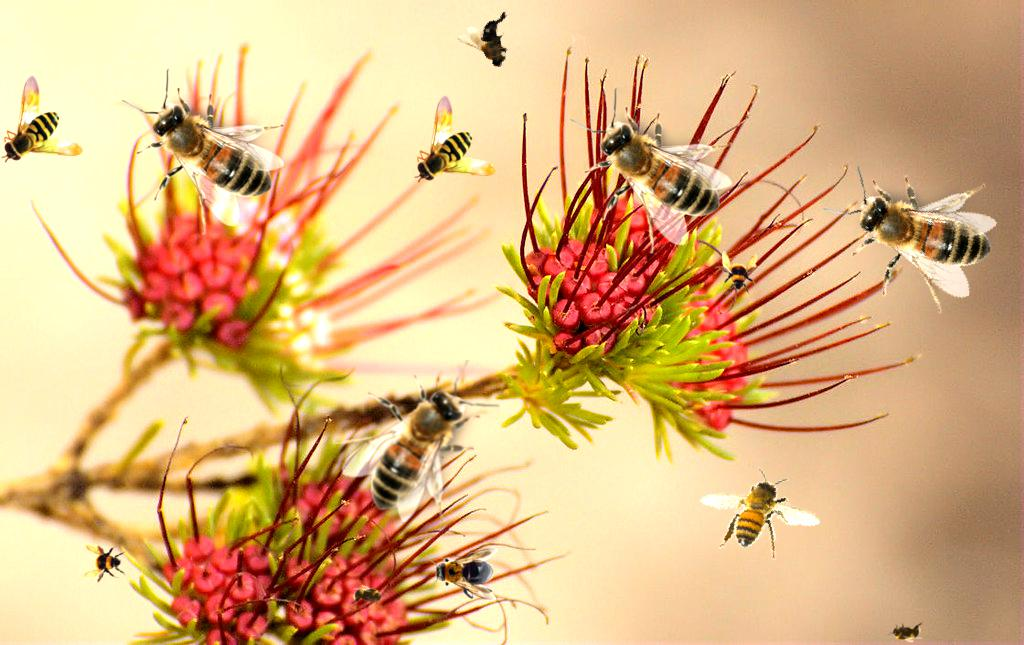Bee: (813, 130, 1018, 338), (122, 68, 284, 235), (570, 87, 732, 254), (333, 360, 500, 522), (695, 455, 828, 575), (1, 75, 83, 163), (414, 95, 496, 183), (453, 3, 534, 81), (430, 548, 498, 600), (82, 542, 126, 586), (715, 251, 759, 295), (347, 583, 389, 609), (886, 621, 926, 643)
